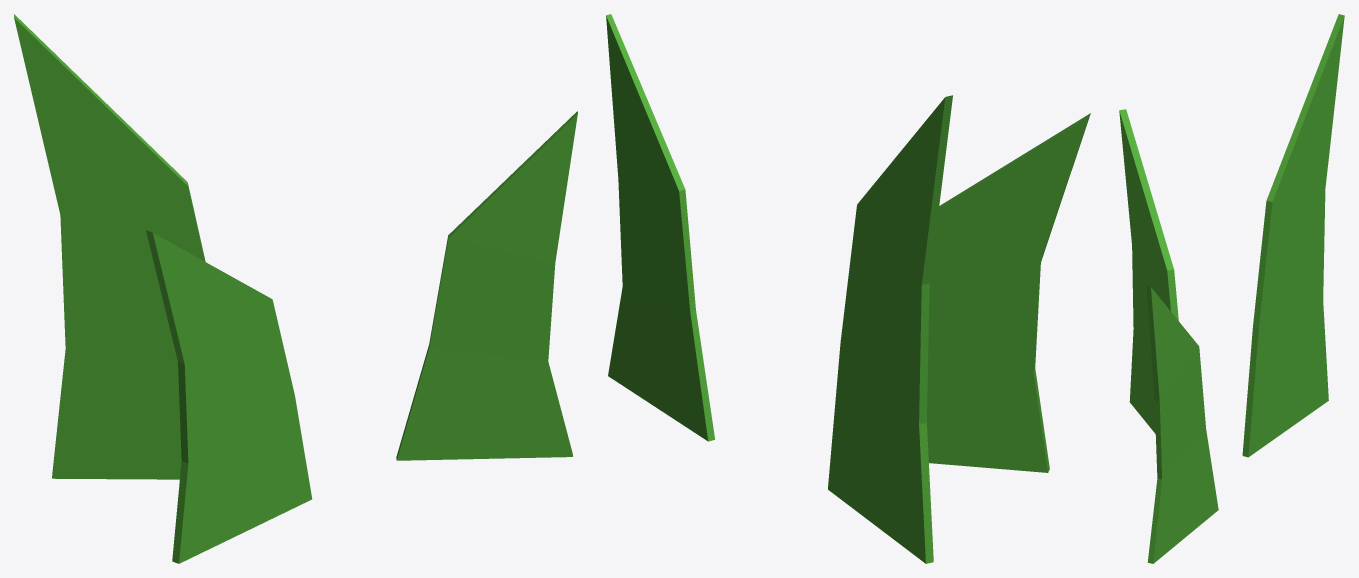
Rendered from Grass_02.fbx.
3 renders of one model, left to right at view 1: azimuth 30°, elevation 25°; view 2: azimuth 150°, elevation 25°; view 3: azimuth 270°, elevation 25°, orthographic. The views are drawn at different scales.
Parts seen in each view (by area): view 1: Grass_02; view 2: Grass_02; view 3: Grass_02.
Boxes of the visible parts, x1=… form: Grass_02: x1=14, y1=14, x2=577, y2=563; Grass_02: x1=606, y1=14, x2=1090, y2=563; Grass_02: x1=1119, y1=14, x2=1344, y2=563.
Size of the model in its own units: 41.32 by 40.63 by 22.2.
